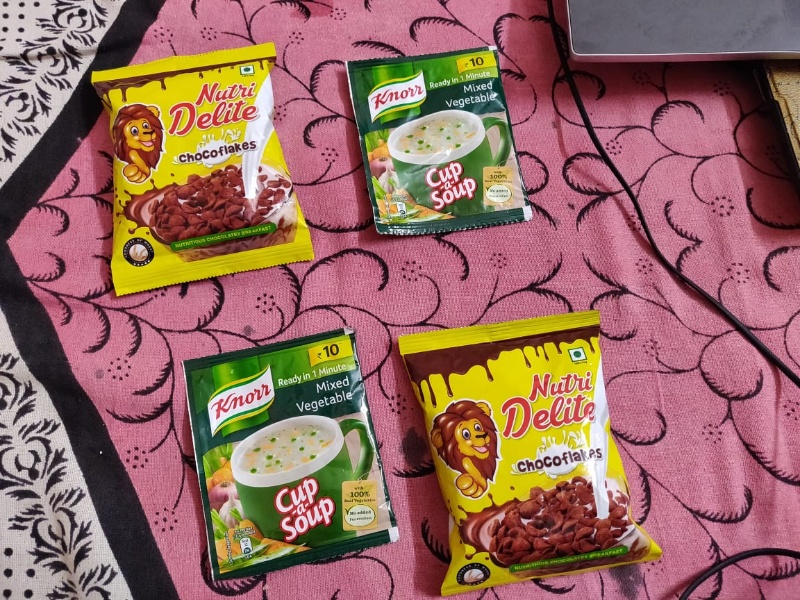Knorr_Cup_Soup: (177, 353, 388, 587), (345, 57, 529, 223)
nutriDelite: (401, 341, 642, 573), (89, 69, 314, 273)
